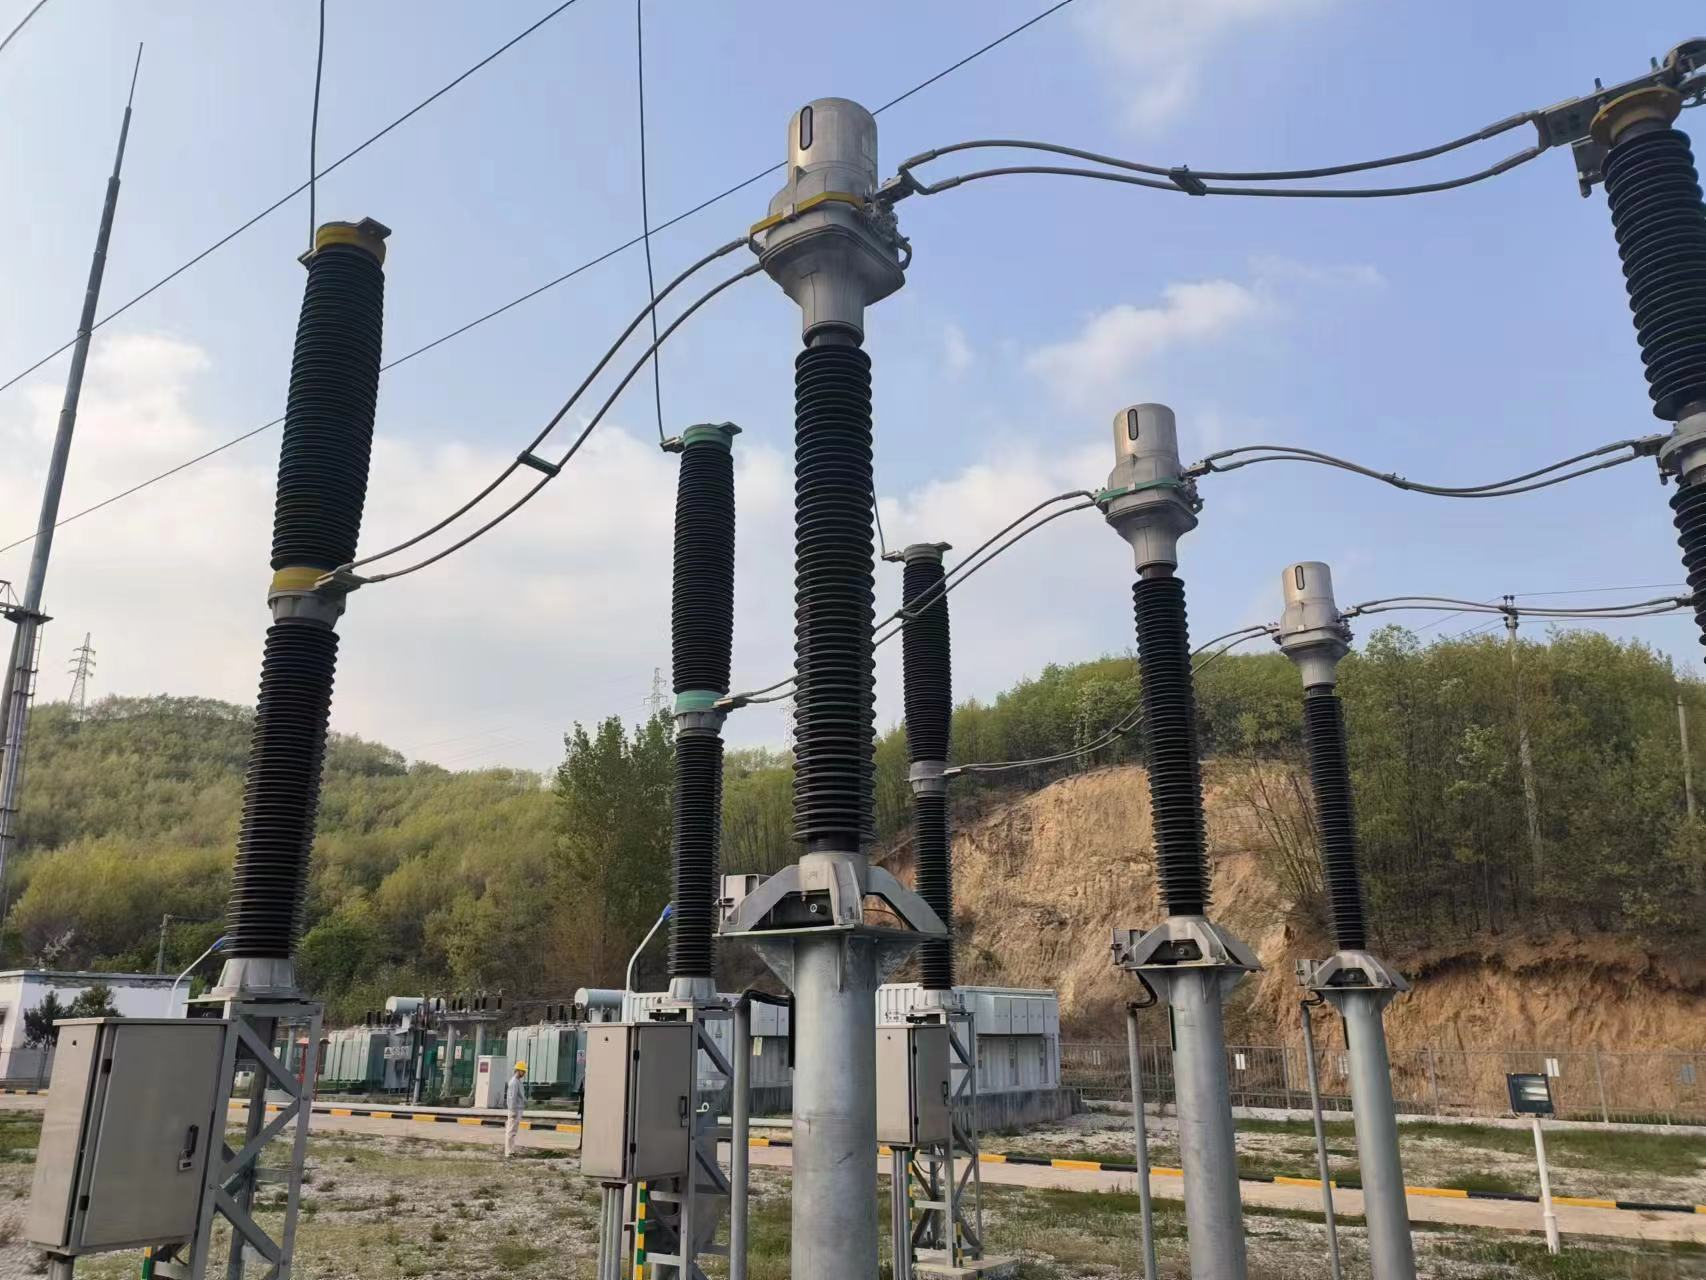Circuit-breaker: (220, 216, 393, 971), (651, 419, 747, 994), (893, 539, 969, 991)
